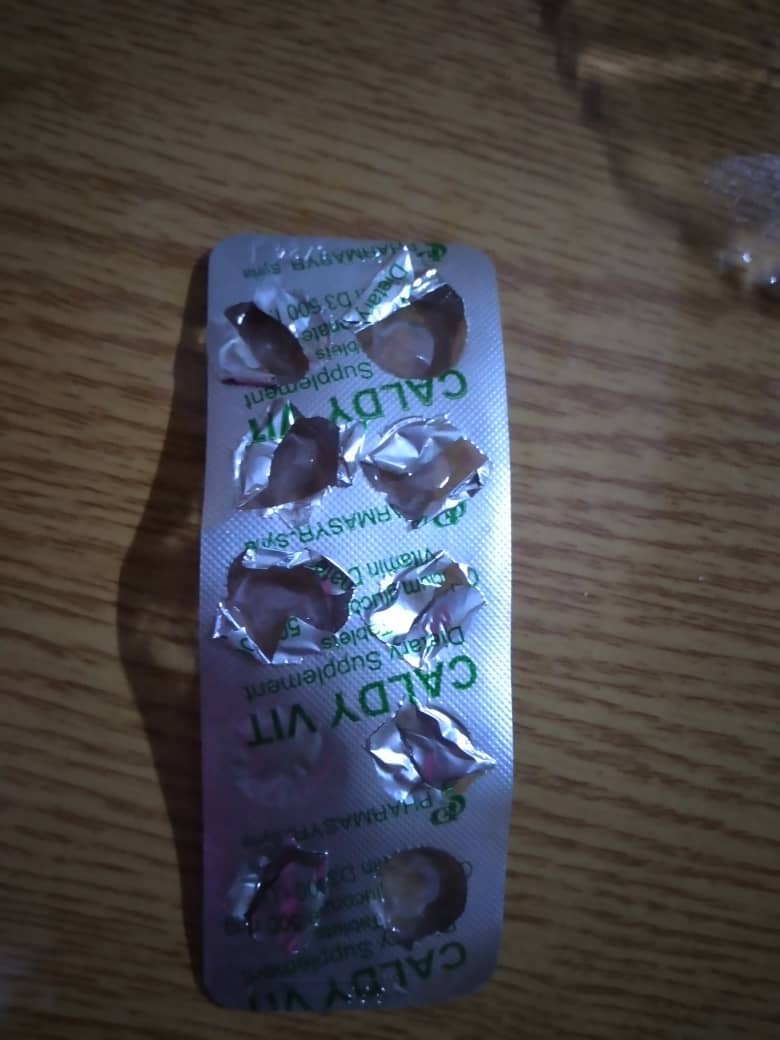Medicine: (160, 210, 560, 1040)
